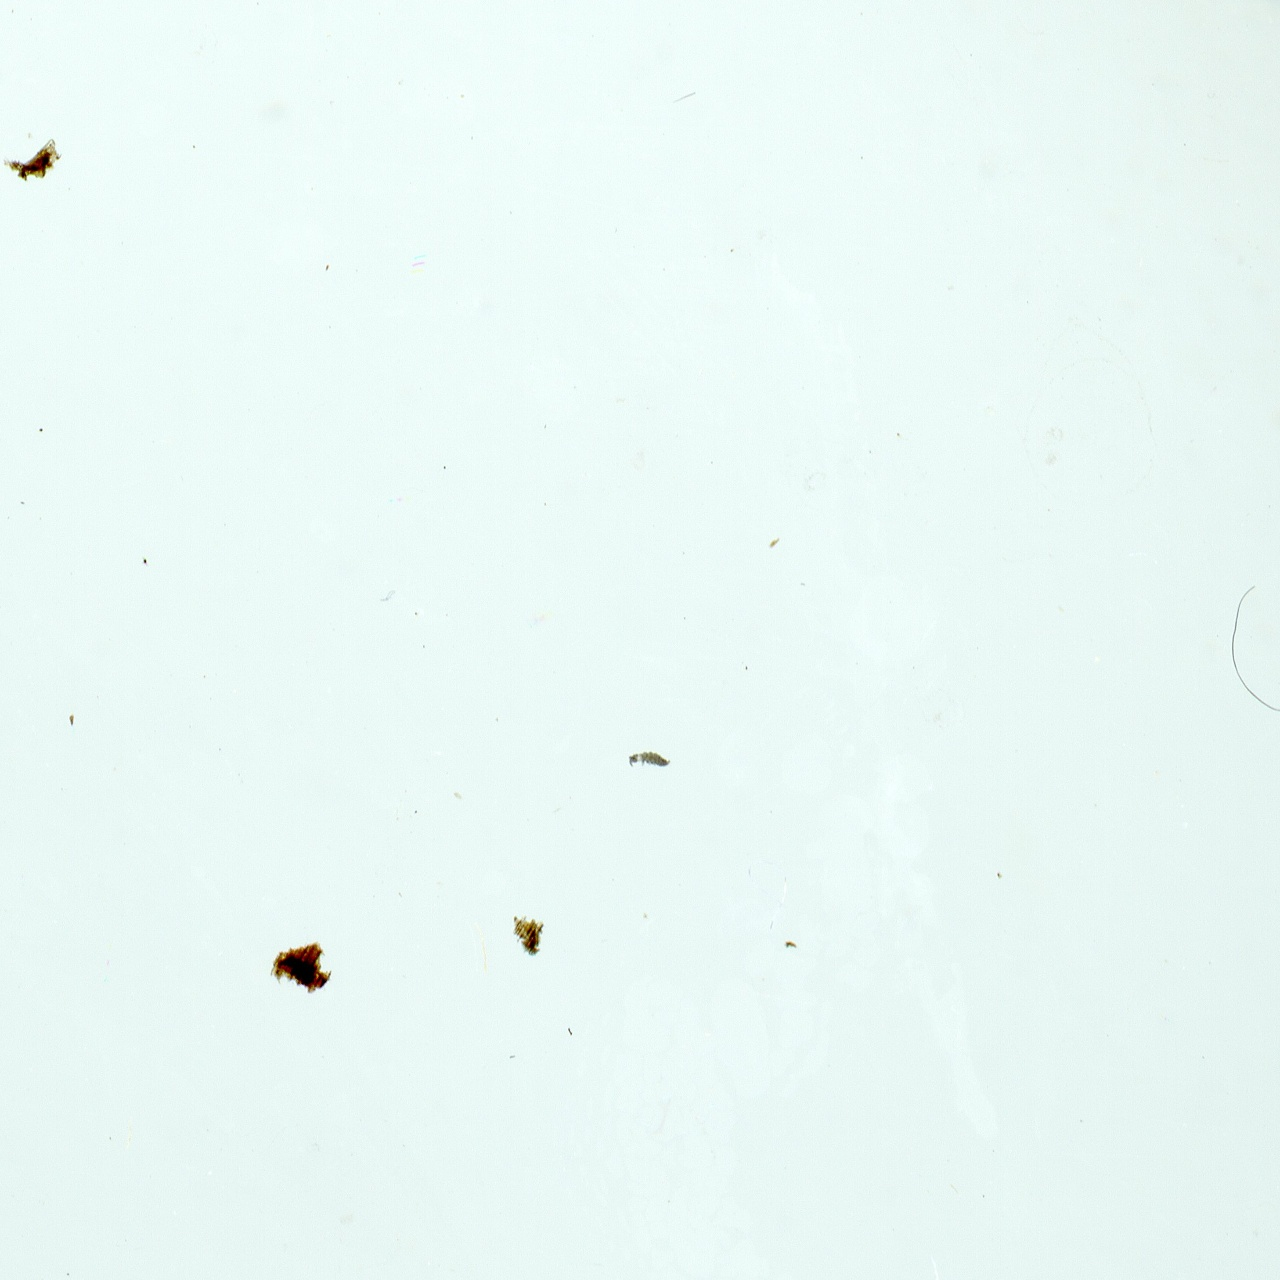arthropod: (625, 748, 672, 769)
